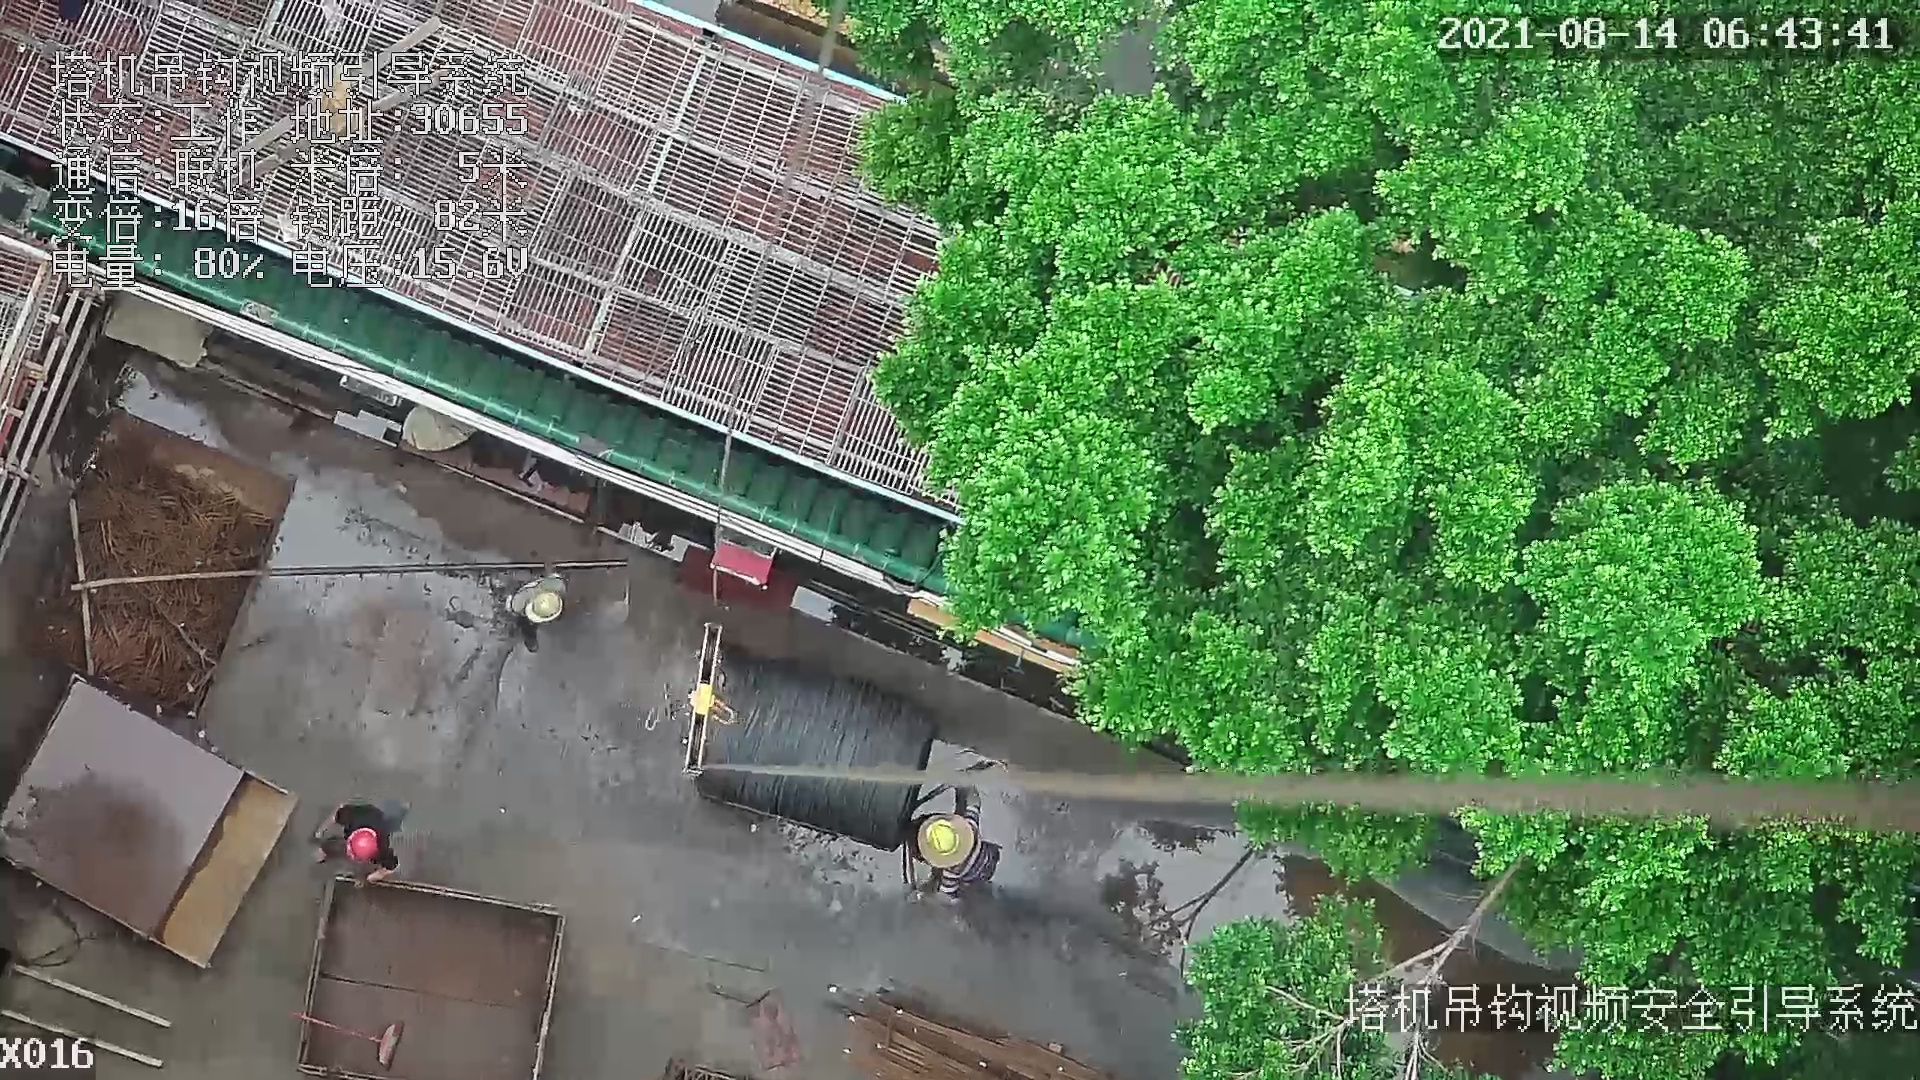helmet: (525, 593, 564, 623), (928, 822, 960, 857), (348, 834, 385, 856)
hook: (678, 619, 735, 778)
person: (895, 780, 1008, 913), (304, 806, 422, 891), (483, 573, 583, 649)
